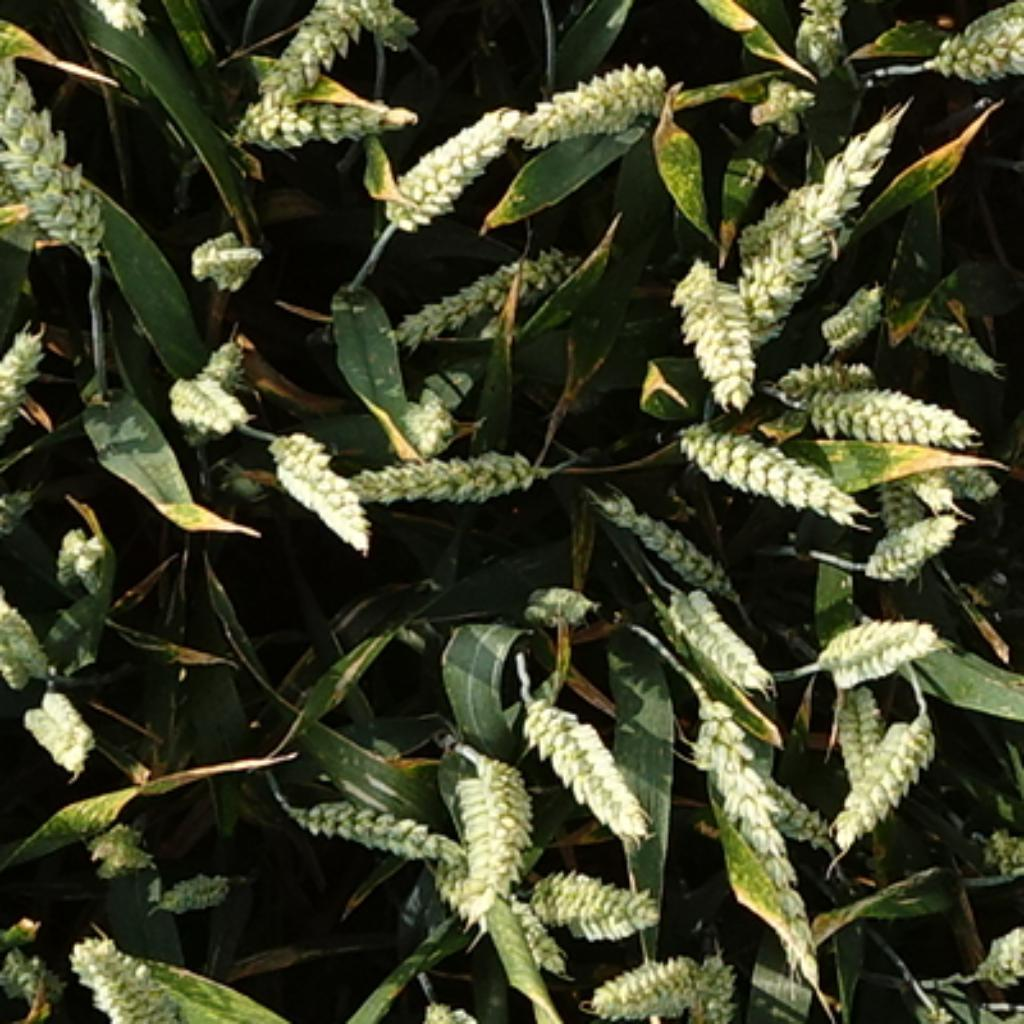0-0: (680, 686, 829, 995), (729, 102, 911, 350), (2, 43, 135, 256), (386, 225, 588, 353), (376, 102, 529, 238), (517, 678, 645, 834), (670, 409, 852, 509), (437, 755, 535, 929), (591, 478, 734, 591), (691, 747, 834, 860), (263, 430, 384, 560), (660, 256, 760, 412), (517, 43, 670, 143), (832, 714, 942, 852), (238, 79, 422, 161), (788, 368, 983, 445), (345, 440, 547, 509), (279, 780, 453, 860), (69, 919, 199, 1024), (258, 0, 368, 112), (663, 591, 780, 696), (525, 863, 661, 942), (819, 616, 949, 688), (581, 944, 704, 1018), (156, 371, 263, 442), (911, 302, 1011, 376), (15, 678, 97, 765), (865, 512, 960, 586), (834, 678, 896, 791), (924, 28, 1024, 91), (967, 875, 1024, 983), (2, 317, 56, 430), (760, 0, 855, 64), (186, 217, 273, 284), (2, 934, 67, 1022), (48, 514, 120, 593), (819, 279, 893, 353), (509, 896, 576, 977), (744, 64, 819, 133), (345, 0, 426, 60), (2, 583, 51, 680), (79, 819, 153, 883), (778, 353, 880, 399), (512, 568, 593, 624), (199, 327, 261, 399), (913, 448, 1000, 499), (686, 944, 739, 1024), (391, 396, 455, 458), (880, 465, 926, 550), (151, 867, 230, 916), (954, 0, 1024, 46)
